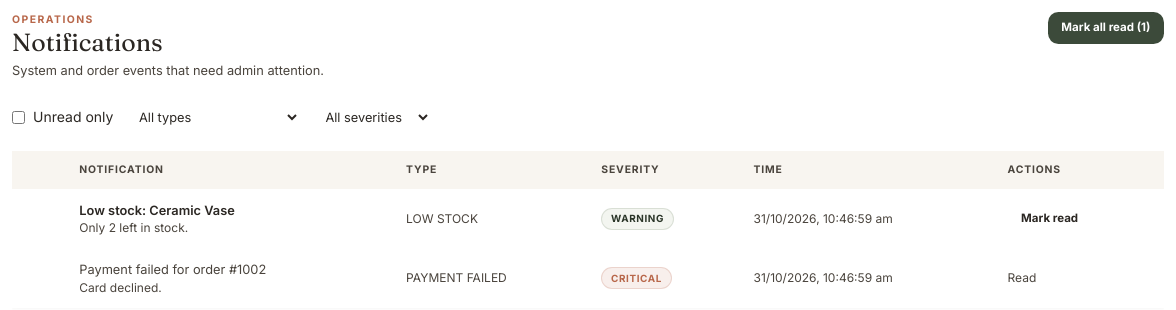
Test: AdminNotifications › filters by unread only on the client
expect the text "Low stock: Ceramic Vase" is shown: met, box top-left (79, 203), bottom-right (235, 218)
Step 1. Click the checkbox labelled "Unread only" → (18, 117), box top-left (12, 111), bottom-right (25, 124)
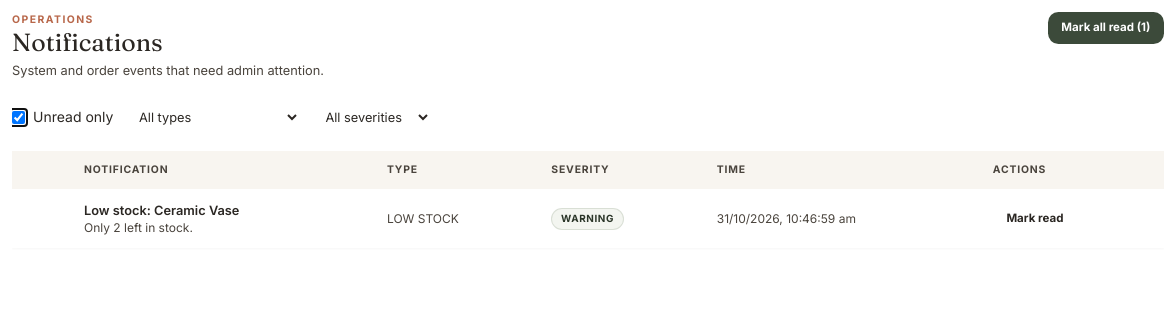
expect the text "Low stock: Ceramic Vase" is shown: met, box top-left (84, 203), bottom-right (240, 218)
expect the link "Payment failed for order #1002" is gone: met
